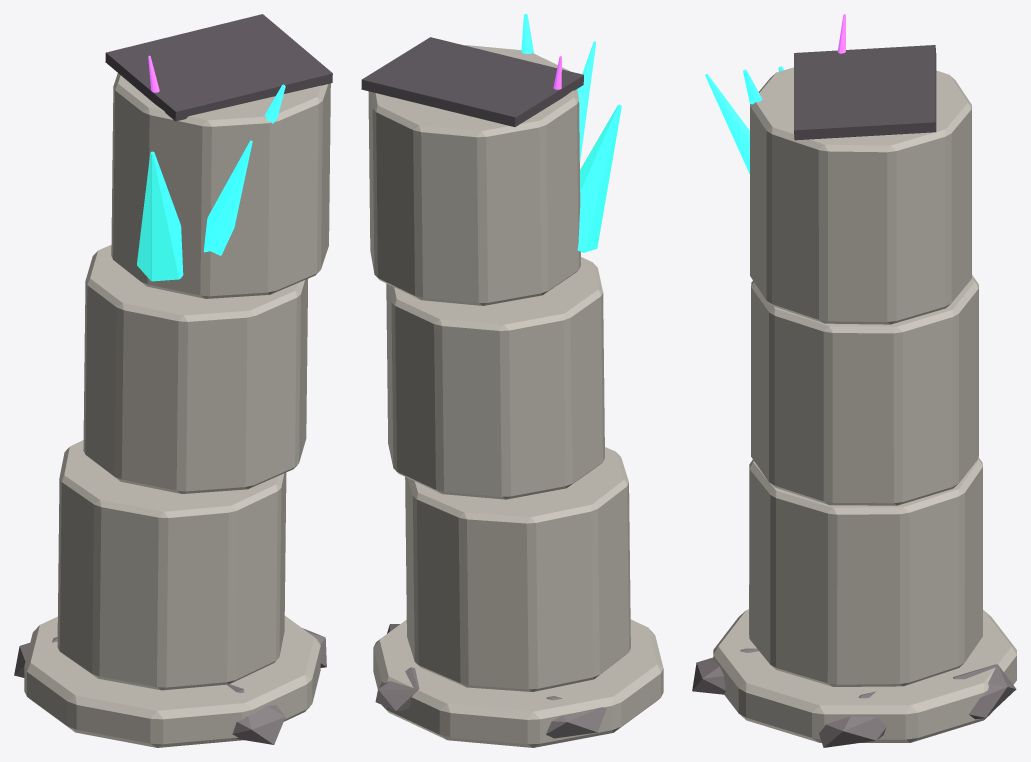
File: runtime.glb
3 renders of one model, left to right at view 1: azimuth 30°, elevation 25°; view 2: azimuth 150°, elevation 25°; view 3: azimuth 270°, elevation 25°, orthographic. The views are drawn at different scales.
Parts seen in each view (by area): view 1: crystal-ruins-damaged-column-v04_shaft_00_nocol, crystal-ruins-damaged-column-v04_shaft_01_nocol, crystal-ruins-damaged-column-v04_shaft_02_nocol, crystal-ruins-damaged-column-v04_base_nocol, crystal-ruins-damaged-column-v04_fracture_00_nocol, crystal-ruins-damaged-column-v04_crystal_02_nocol, crystal-ruins-damaged-column-v04_crystal_03_nocol, crystal-ruins-damaged-column-v04_deposit_02_nocol; view 2: crystal-ruins-damaged-column-v04_shaft_00_nocol, crystal-ruins-damaged-column-v04_shaft_01_nocol, crystal-ruins-damaged-column-v04_shaft_02_nocol, crystal-ruins-damaged-column-v04_base_nocol, crystal-ruins-damaged-column-v04_fracture_00_nocol, crystal-ruins-damaged-column-v04_crystal_02_nocol, crystal-ruins-damaged-column-v04_deposit_01_nocol, crystal-ruins-damaged-column-v04_deposit_03_nocol, crystal-ruins-damaged-column-v04_crystal_03_nocol; view 3: crystal-ruins-damaged-column-v04_shaft_02_nocol, crystal-ruins-damaged-column-v04_shaft_00_nocol, crystal-ruins-damaged-column-v04_shaft_01_nocol, crystal-ruins-damaged-column-v04_base_nocol, crystal-ruins-damaged-column-v04_fracture_00_nocol, crystal-ruins-damaged-column-v04_deposit_00_nocol, crystal-ruins-damaged-column-v04_deposit_03_nocol, crystal-ruins-damaged-column-v04_crystal_03_nocol, crystal-ruins-damaged-column-v04_deposit_02_nocol.
Part boxes in pixels (x1=…): crystal-ruins-damaged-column-v04_shaft_00_nocol: x1=57, y1=440, x2=286, y2=690; crystal-ruins-damaged-column-v04_shaft_01_nocol: x1=83, y1=244, x2=307, y2=493; crystal-ruins-damaged-column-v04_shaft_02_nocol: x1=111, y1=73, x2=330, y2=298; crystal-ruins-damaged-column-v04_base_nocol: x1=24, y1=615, x2=320, y2=747; crystal-ruins-damaged-column-v04_fracture_00_nocol: x1=105, y1=14, x2=332, y2=121; crystal-ruins-damaged-column-v04_crystal_02_nocol: x1=137, y1=151, x2=183, y2=281; crystal-ruins-damaged-column-v04_crystal_03_nocol: x1=203, y1=140, x2=252, y2=255; crystal-ruins-damaged-column-v04_deposit_02_nocol: x1=227, y1=684, x2=285, y2=744; crystal-ruins-damaged-column-v04_shaft_00_nocol: x1=405, y1=447, x2=630, y2=691; crystal-ruins-damaged-column-v04_shaft_01_nocol: x1=386, y1=257, x2=604, y2=499; crystal-ruins-damaged-column-v04_shaft_02_nocol: x1=368, y1=45, x2=580, y2=305; crystal-ruins-damaged-column-v04_base_nocol: x1=373, y1=619, x2=663, y2=747; crystal-ruins-damaged-column-v04_fracture_00_nocol: x1=361, y1=37, x2=583, y2=126; crystal-ruins-damaged-column-v04_crystal_02_nocol: x1=577, y1=104, x2=621, y2=252; crystal-ruins-damaged-column-v04_deposit_01_nocol: x1=546, y1=696, x2=606, y2=738; crystal-ruins-damaged-column-v04_deposit_03_nocol: x1=375, y1=667, x2=419, y2=710; crystal-ruins-damaged-column-v04_crystal_03_nocol: x1=577, y1=41, x2=596, y2=161; crystal-ruins-damaged-column-v04_shaft_02_nocol: x1=750, y1=67, x2=971, y2=324; crystal-ruins-damaged-column-v04_shaft_00_nocol: x1=749, y1=458, x2=982, y2=686; crystal-ruins-damaged-column-v04_shaft_01_nocol: x1=751, y1=275, x2=978, y2=505; crystal-ruins-damaged-column-v04_base_nocol: x1=713, y1=609, x2=1016, y2=742; crystal-ruins-damaged-column-v04_fracture_00_nocol: x1=794, y1=45, x2=936, y2=140; crystal-ruins-damaged-column-v04_deposit_00_nocol: x1=819, y1=691, x2=886, y2=747; crystal-ruins-damaged-column-v04_deposit_03_nocol: x1=953, y1=664, x2=1016, y2=719; crystal-ruins-damaged-column-v04_crystal_03_nocol: x1=705, y1=74, x2=749, y2=174; crystal-ruins-damaged-column-v04_deposit_02_nocol: x1=692, y1=648, x2=758, y2=694.
Size of the model in its own units: 2.75 by 6.37 by 2.86.
